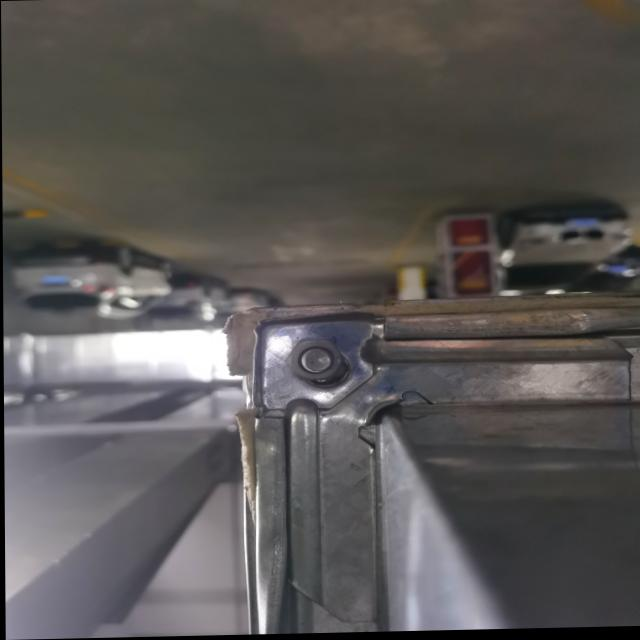Regular bolt: (283, 341, 343, 383)
